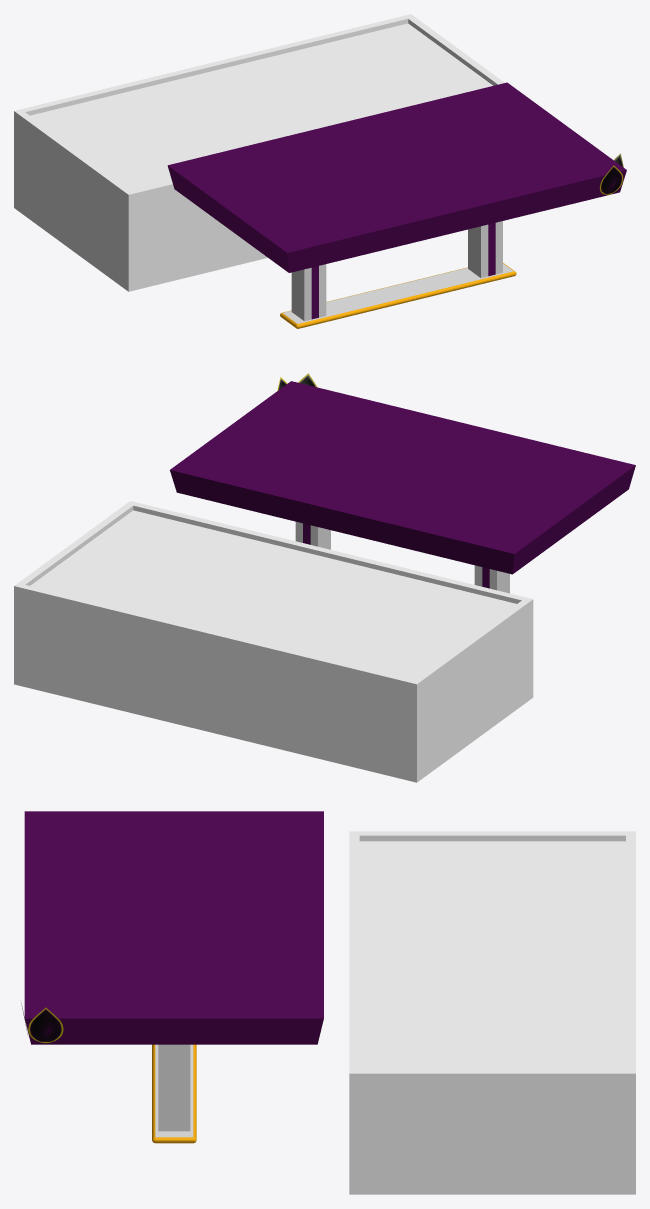
File: gas-station.glb
3 views of the same model, one above another, from view 1: azimuth 30°, elevation 25°; view 2: azimuth 150°, elevation 25°; view 3: azimuth 270°, elevation 25° (orthographic). The views are drawn at different scales.
Parts seen in each view (by area): view 1: gas-store, Roof, ground, pilarL, pilarR, gas-logo.001; view 2: gas-store, Roof, pilarL, pilarR; view 3: gas-store, Roof, pilarR, ground, gas-logo.
Boxes of the visible parts, bbox=[...] form: gas-store: bbox=[14, 14, 504, 291]; Roof: bbox=[167, 82, 626, 272]; ground: bbox=[280, 263, 516, 328]; pilarL: bbox=[291, 264, 326, 321]; pilarR: bbox=[468, 221, 502, 277]; gas-logo.001: bbox=[600, 165, 623, 194]; gas-store: bbox=[14, 501, 533, 782]; Roof: bbox=[170, 381, 635, 574]; pilarL: bbox=[474, 565, 509, 593]; pilarR: bbox=[295, 521, 330, 549]; gas-store: bbox=[349, 831, 635, 1194]; Roof: bbox=[24, 811, 323, 1044]; pilarR: bbox=[158, 1044, 190, 1131]; ground: bbox=[152, 1044, 196, 1143]; gas-logo: bbox=[28, 1007, 63, 1042].
Size of the model in its own units: 18 by 6.44 by 19.54.
9 materials, 4 textured.
